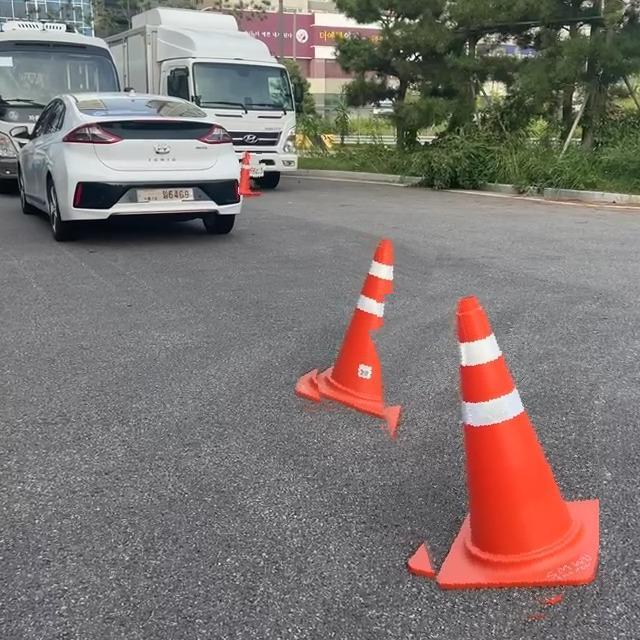fallen_object: (430, 279, 640, 593), (236, 216, 441, 425), (229, 116, 309, 241)
